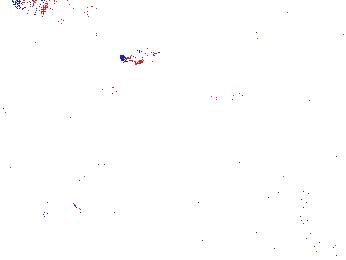X-ray fish: (9, 1, 88, 24)
glassfish: (72, 125, 184, 187)
red belly glassfish: (118, 48, 168, 67), (74, 84, 120, 99), (206, 91, 244, 107)
redtail glassfish: (1, 15, 41, 44)
